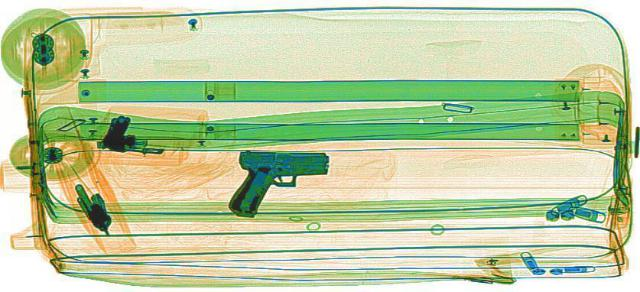Gun: (205, 143, 339, 221), (46, 179, 136, 228), (96, 113, 176, 153)
